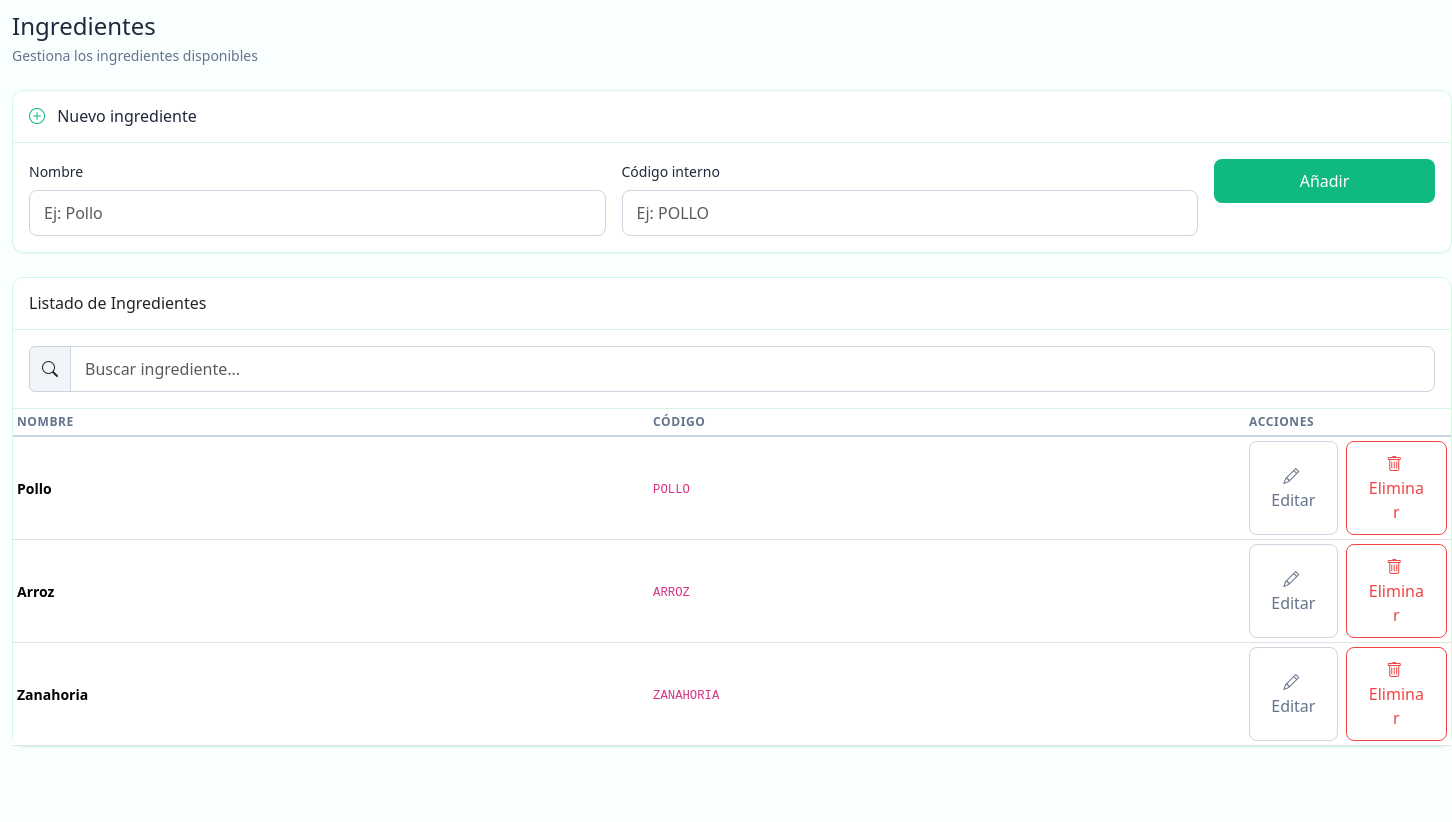
Scenario: IngredientsView › clears search when X button clicked
This screenshot has width=1452, height=822.
In the field with placeholder "Buscar ingrediente...": x=752, y=369 [70,346,1435,392], type "Pollo"
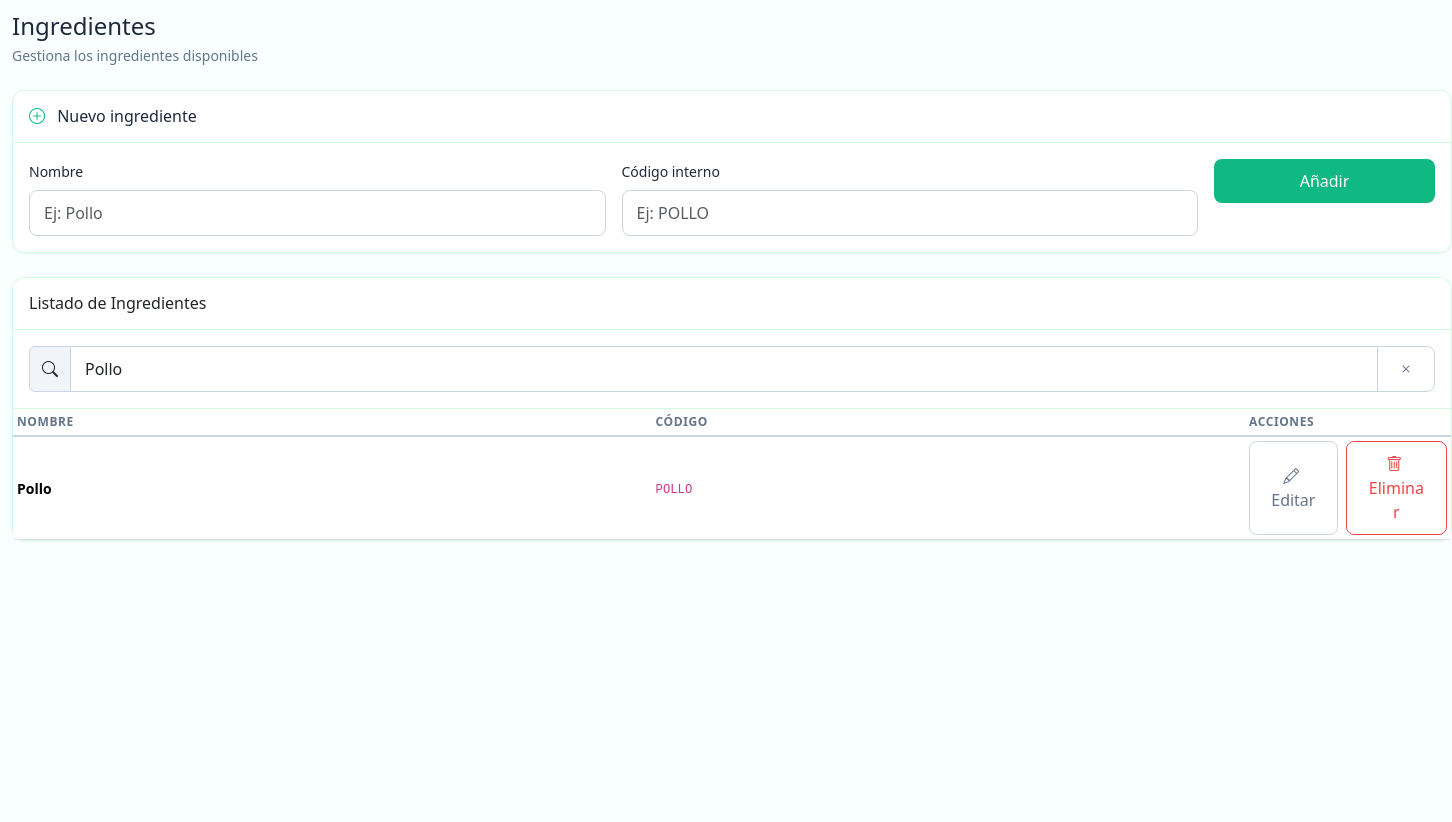
Click the button named "Limpiar búsqueda": x=1406, y=369 [1377,346,1435,392]
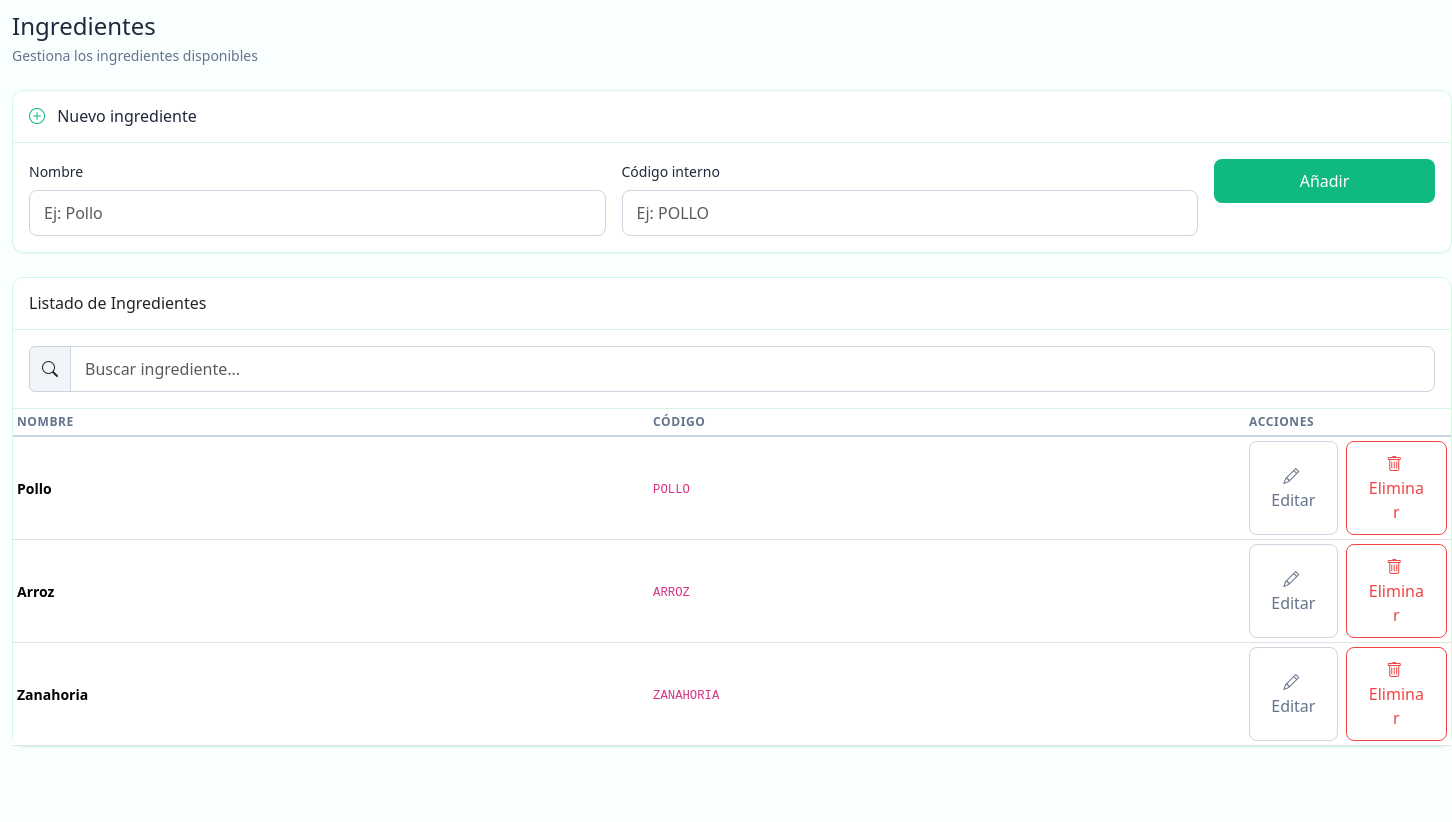
expect the field with placeholder "Buscar ingrediente..." is empty: met, box [70,346,1435,392]
